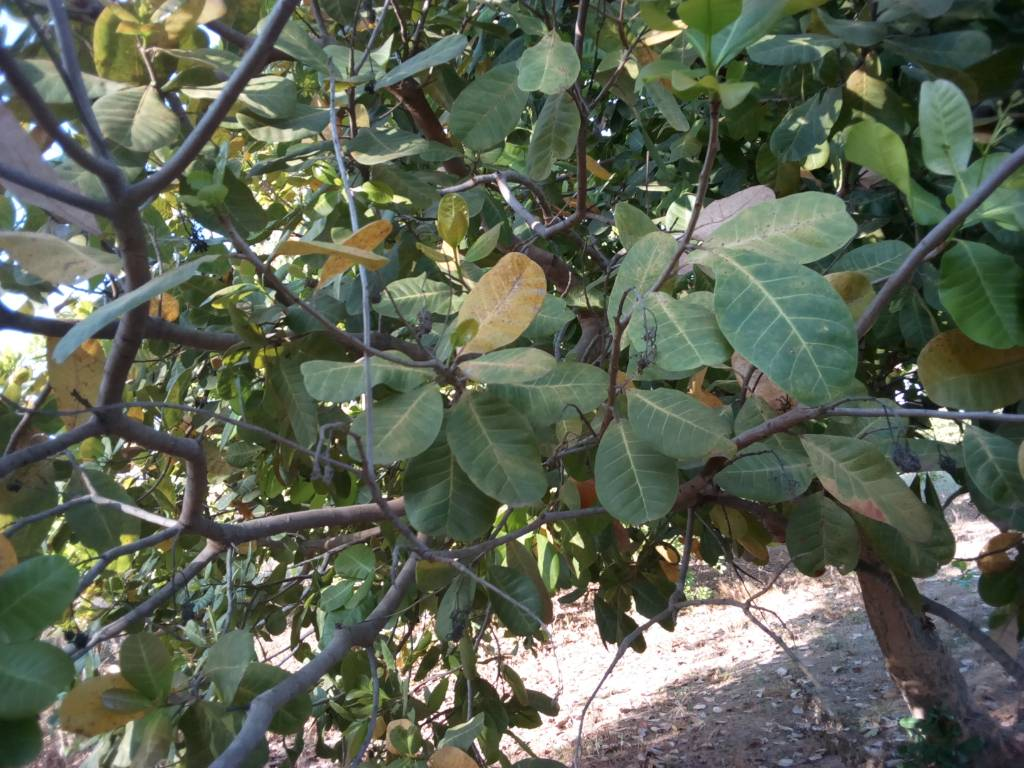Dessèchement des bourgeons: (253, 428, 360, 512), (870, 394, 970, 483)
